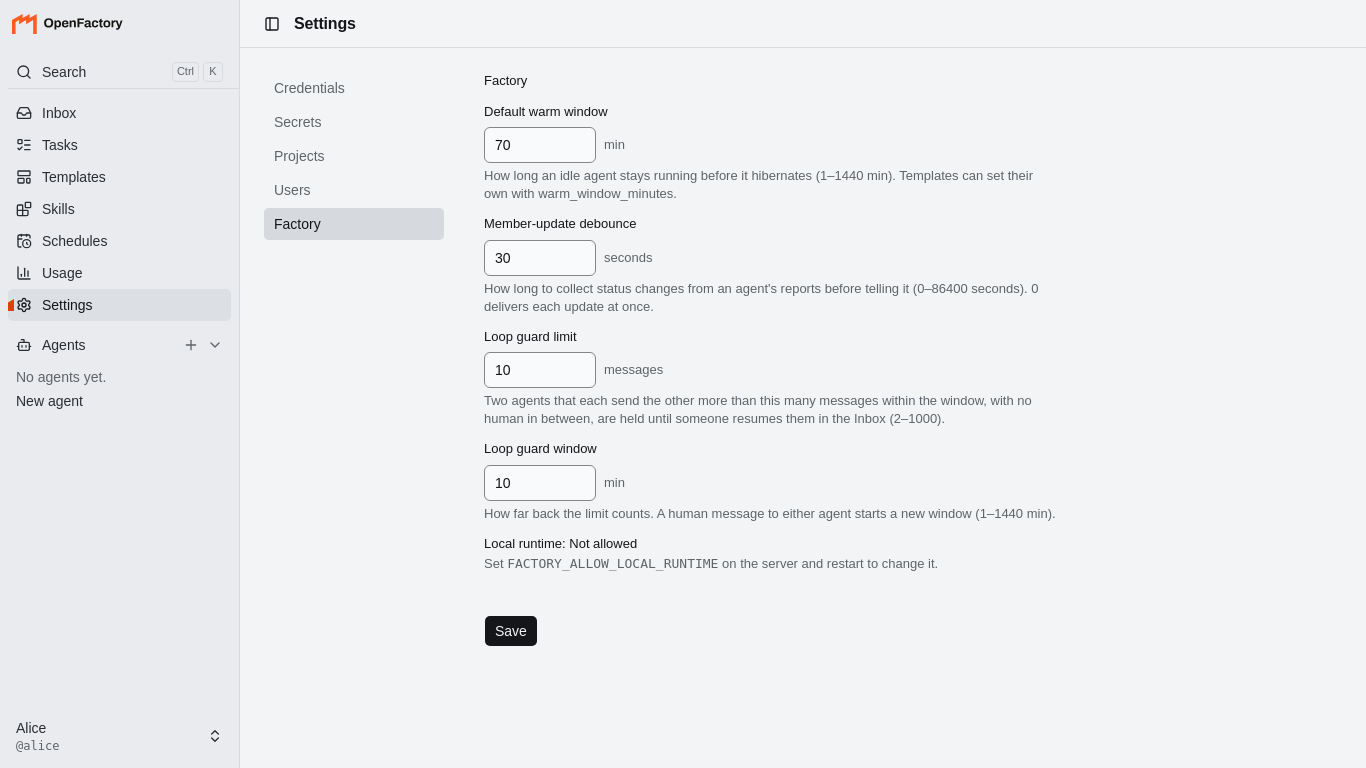
Test case: our own save's echo arriving before the PATCH resolves is no conflict
Replace the text in the number field labelled "Default warm window" with "120": [540, 145] box [484,127,596,163]
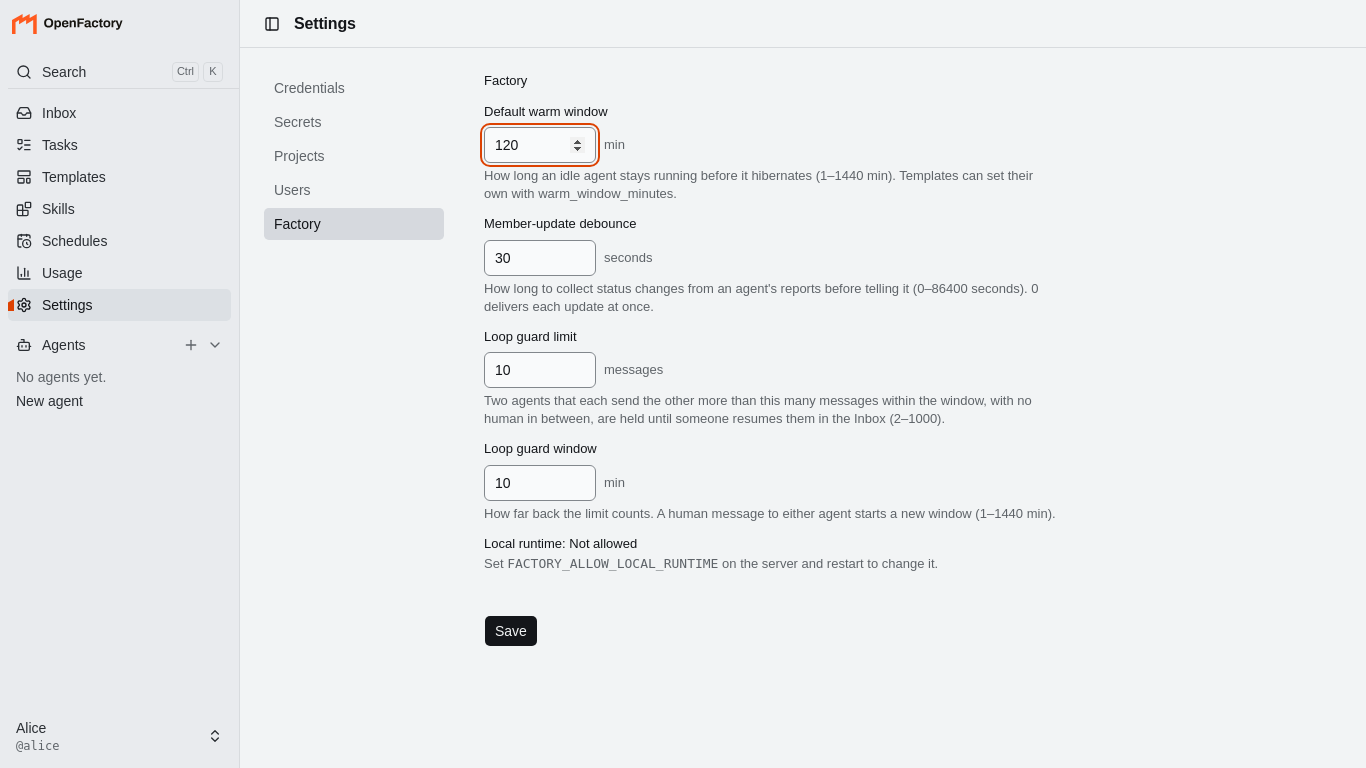
Click the button "Save": [511, 631] box [484,615,538,647]
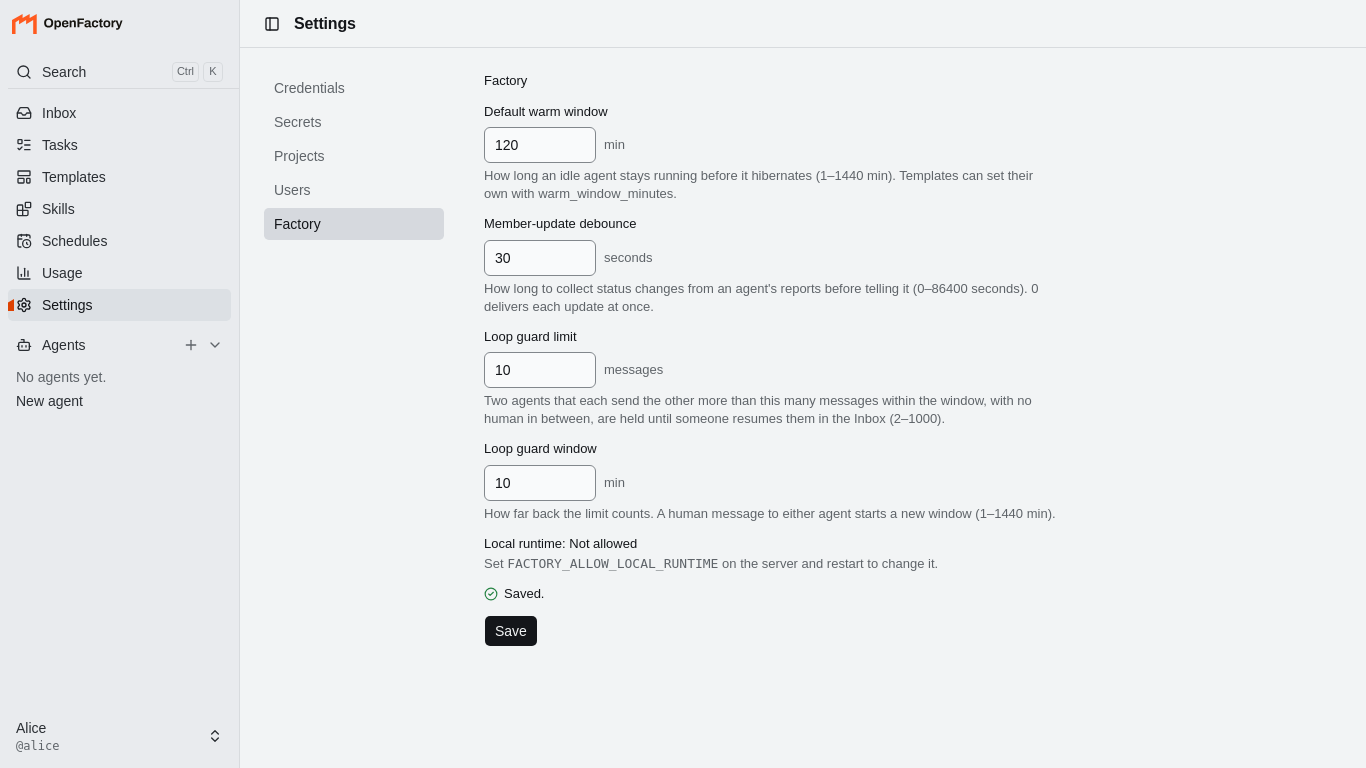
Check: the text "Saved." is shown, box [504,585,544,603]
